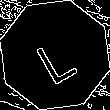L_NW: (29, 25, 81, 85)
